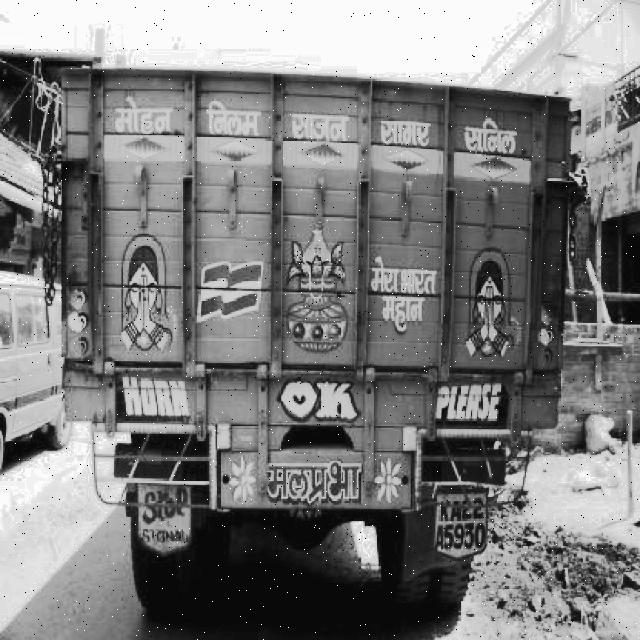HCV: (48, 46, 568, 596)
